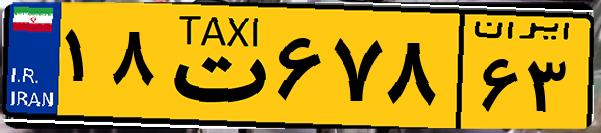1: (57, 26, 110, 100)
3: (525, 38, 570, 115)
6: (270, 28, 330, 110), (475, 38, 525, 113)
7: (330, 28, 385, 110)
8: (385, 28, 445, 110), (110, 28, 158, 98)
ت: (158, 12, 270, 120)
